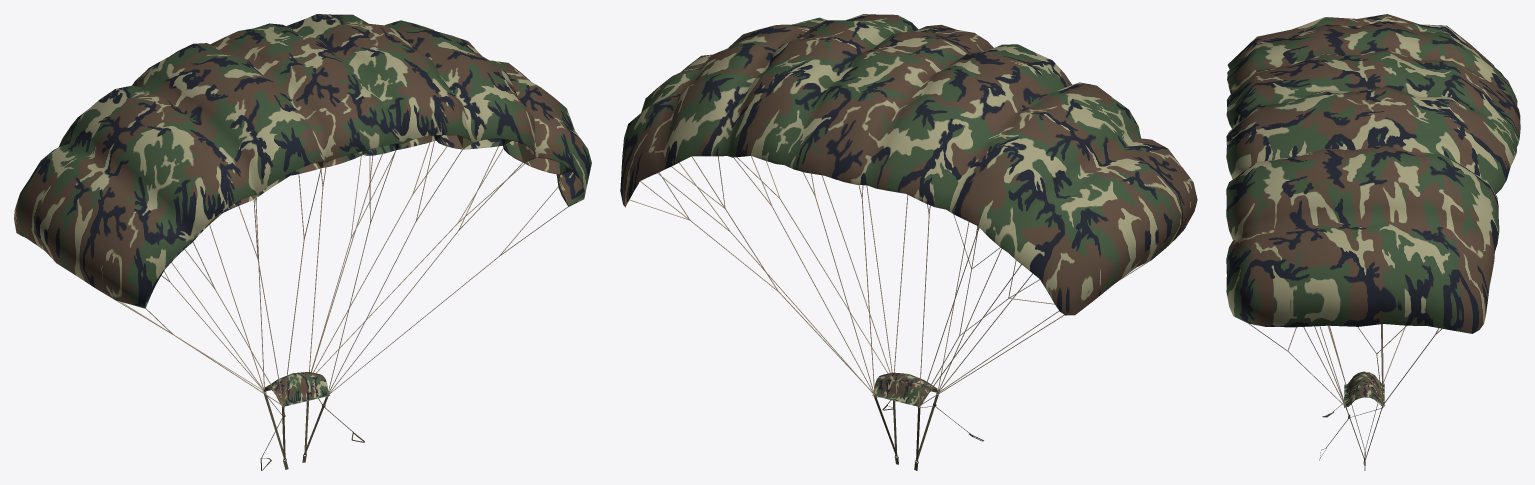
File: Parachute 3.FBX
3 renders of one model, left to right at view 1: azimuth 30°, elevation 25°; view 2: azimuth 150°, elevation 25°; view 3: azimuth 270°, elevation 25°, orthographic. The views are drawn at different scales.
Parts seen in each view (by area): view 1: parachute 3; view 2: parachute 3; view 3: parachute 3.
Boxes of the visible parts, bbox=[...] form: parachute 3: bbox=[14, 14, 591, 470]; parachute 3: bbox=[620, 14, 1197, 470]; parachute 3: bbox=[1226, 14, 1520, 470].
Size of the model in its own units: 498 by 392 by 255.
Materials: 3 (2 with a texture image).
